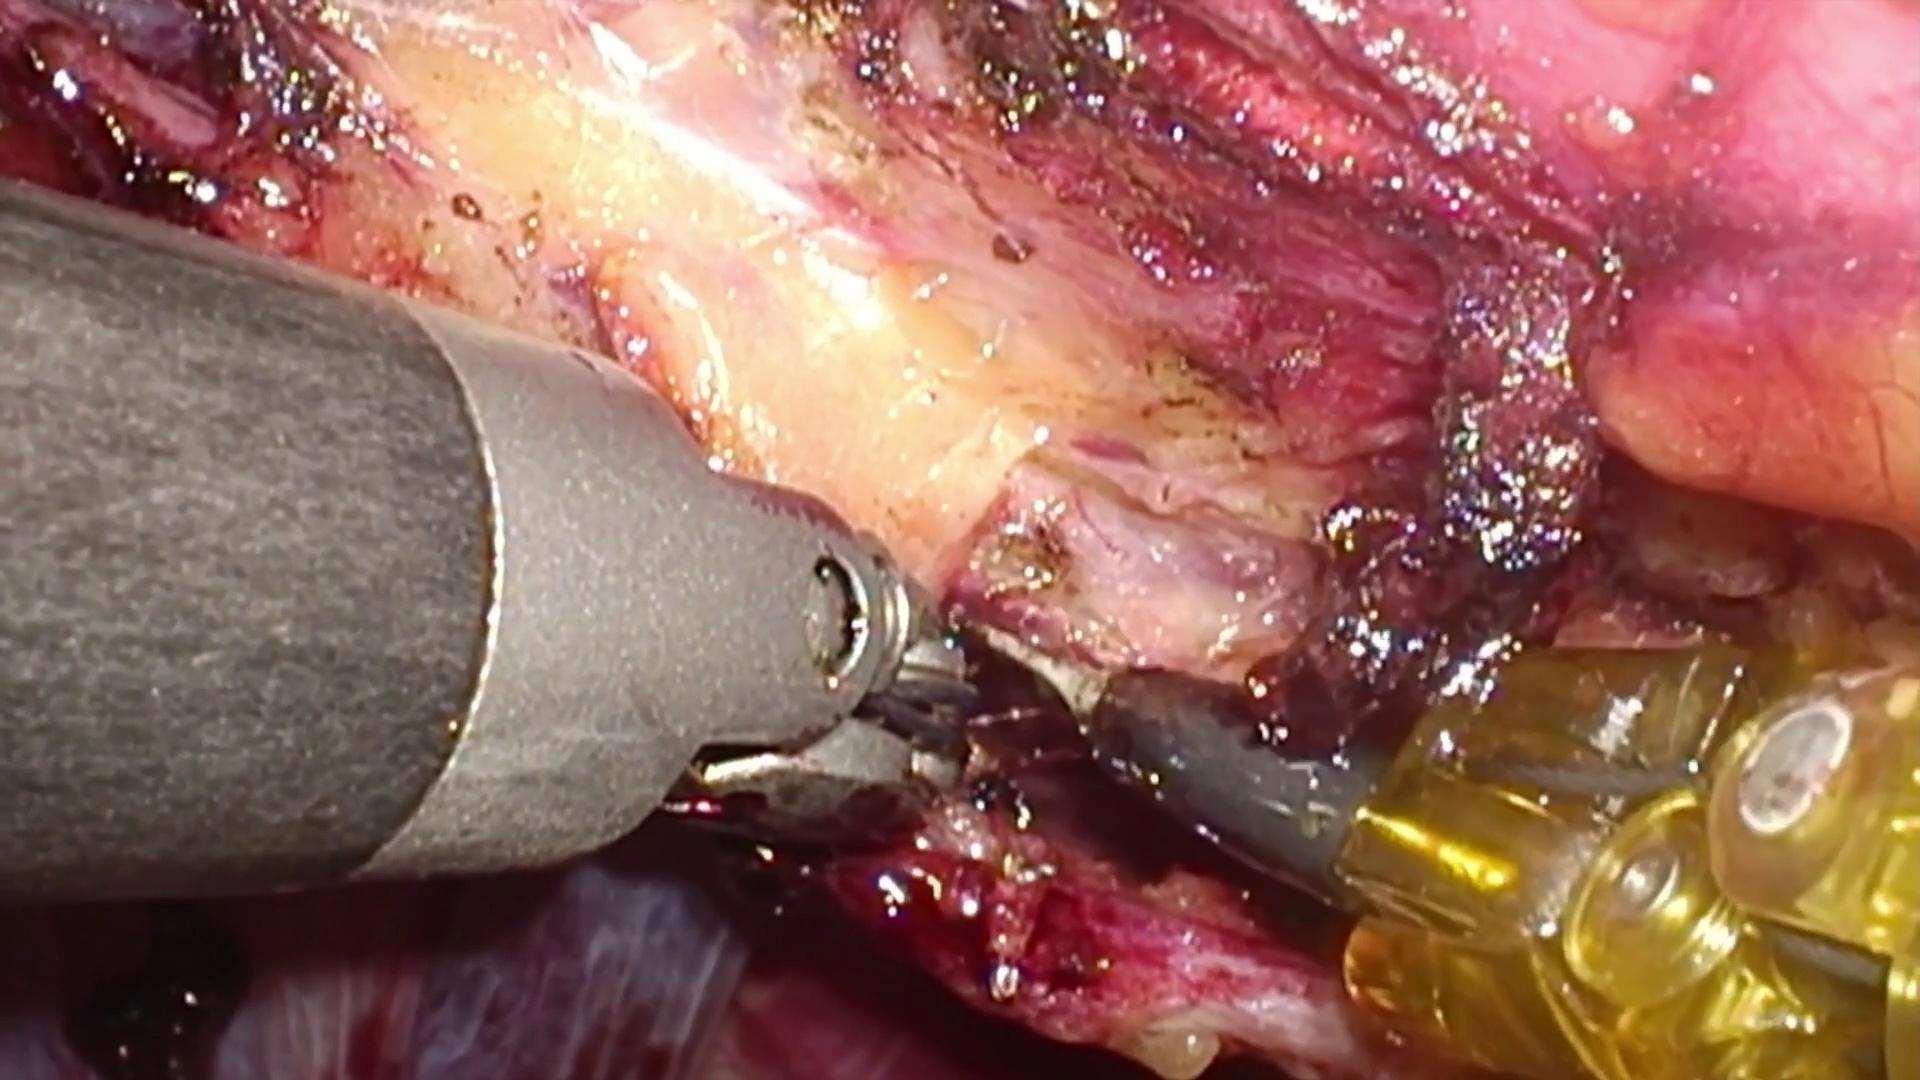Cautery_Spatula: (963, 600, 1387, 902)
Debakey: (898, 724, 1025, 839)
